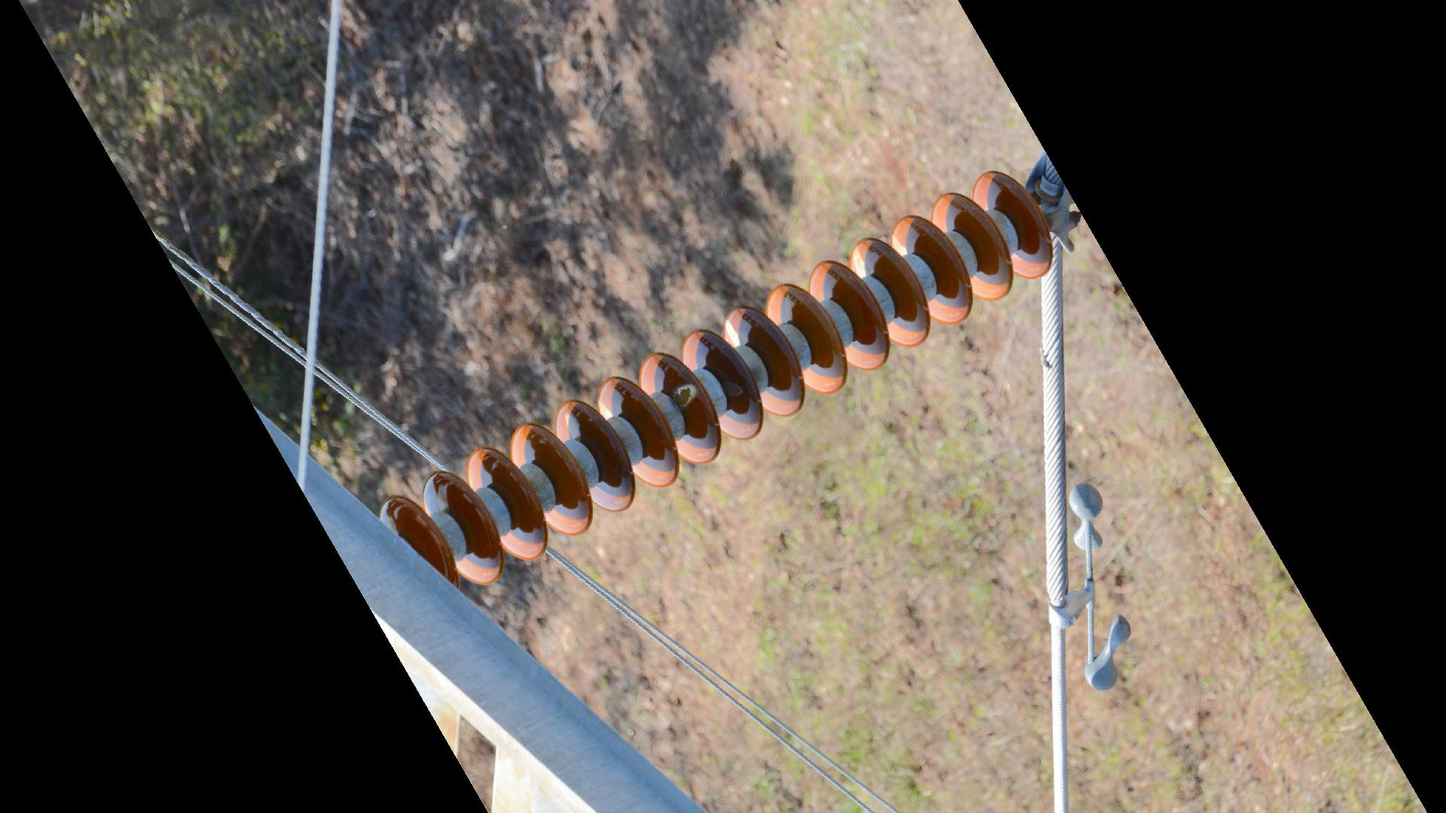insulator: (375, 166, 1057, 592)
insulator_flashover: (670, 380, 701, 410), (850, 244, 871, 279), (722, 318, 744, 349), (889, 233, 908, 257)
